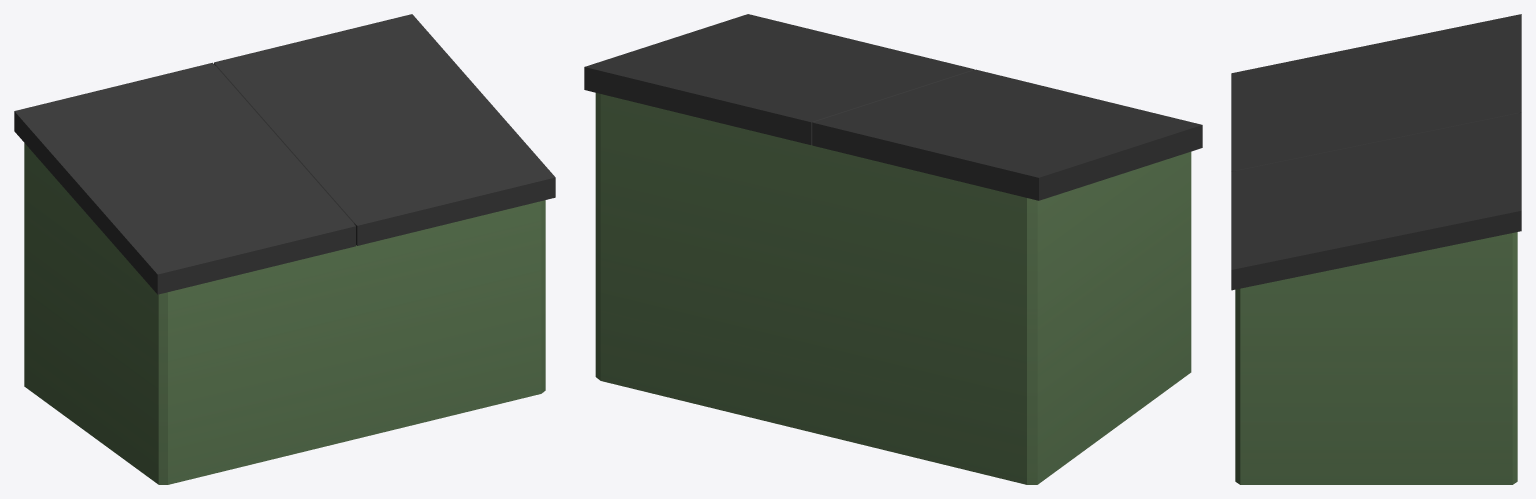
Rendered from Trash_02.fbx.
3 renders of one model, left to right at view 1: azimuth 30°, elevation 25°; view 2: azimuth 150°, elevation 25°; view 3: azimuth 270°, elevation 25°, orthographic. The views are drawn at different scales.
Visible parts, largest first — view 1: Trash_02; view 2: Trash_02; view 3: Trash_02.
Boxes of the visible parts, x1,y1,x2,y2 form: Trash_02: (14, 14, 555, 484); Trash_02: (584, 14, 1202, 484); Trash_02: (1231, 14, 1521, 484).
Size of the model in its own units: 164 by 108 by 102.
